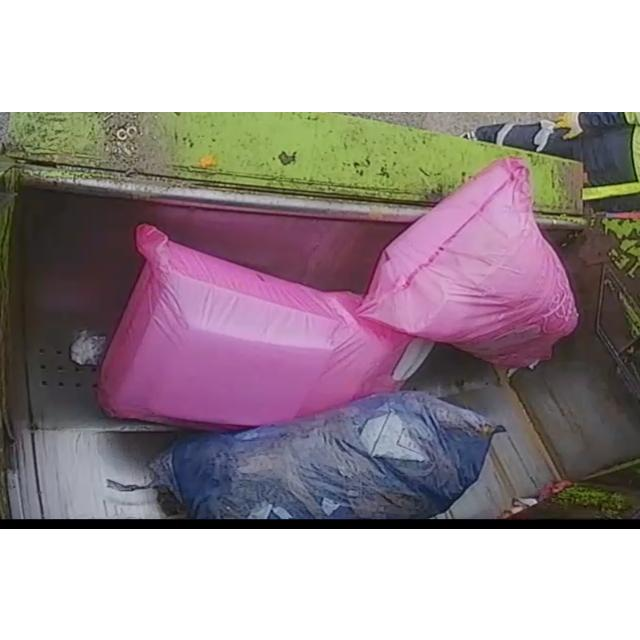other_trashbag: (99, 224, 411, 425), (359, 156, 579, 367), (150, 390, 502, 518)
